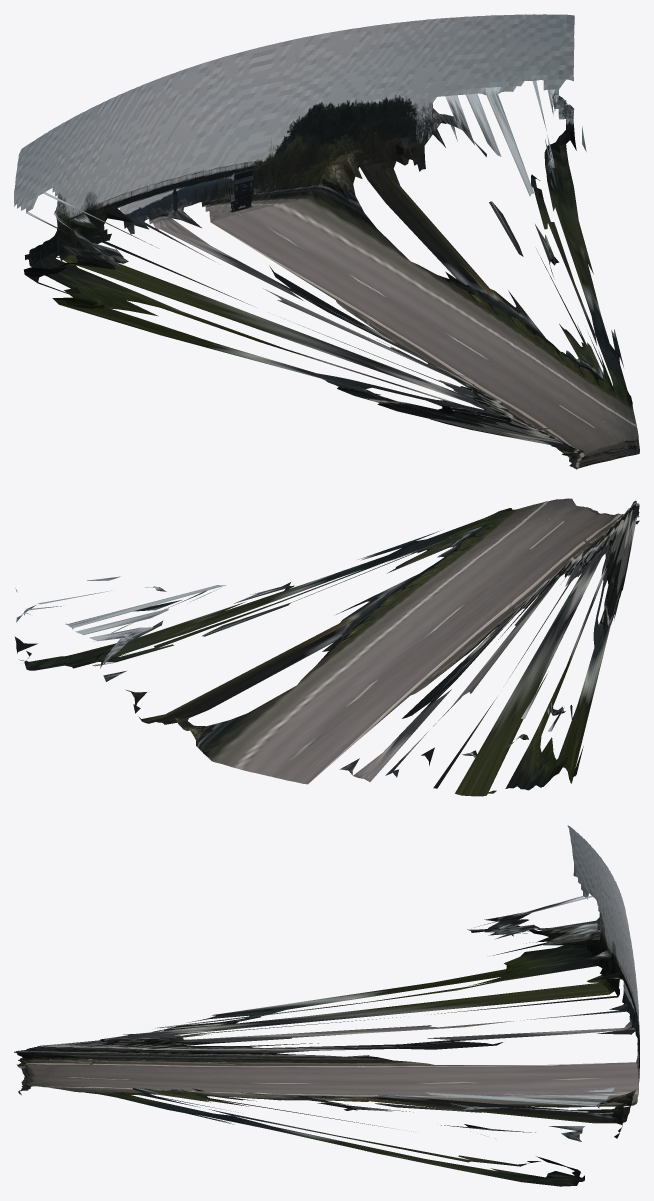
The picture shows the model from 3 angles, top to bottom: view 1: azimuth 30°, elevation 25°; view 2: azimuth 150°, elevation 25°; view 3: azimuth 270°, elevation 25°; orthographic projection. The views are drawn at different scales.
Visible parts, largest first — view 1: defaultobject; view 2: defaultobject; view 3: defaultobject.
Part boxes in pixels (x1,y1,x2,y2): defaultobject: (14, 14, 639, 469); defaultobject: (14, 498, 639, 796); defaultobject: (14, 825, 639, 1186).
Size of the model in its own units: 40.98 by 11.73 by 44.73.
1 material, 1 textured.
